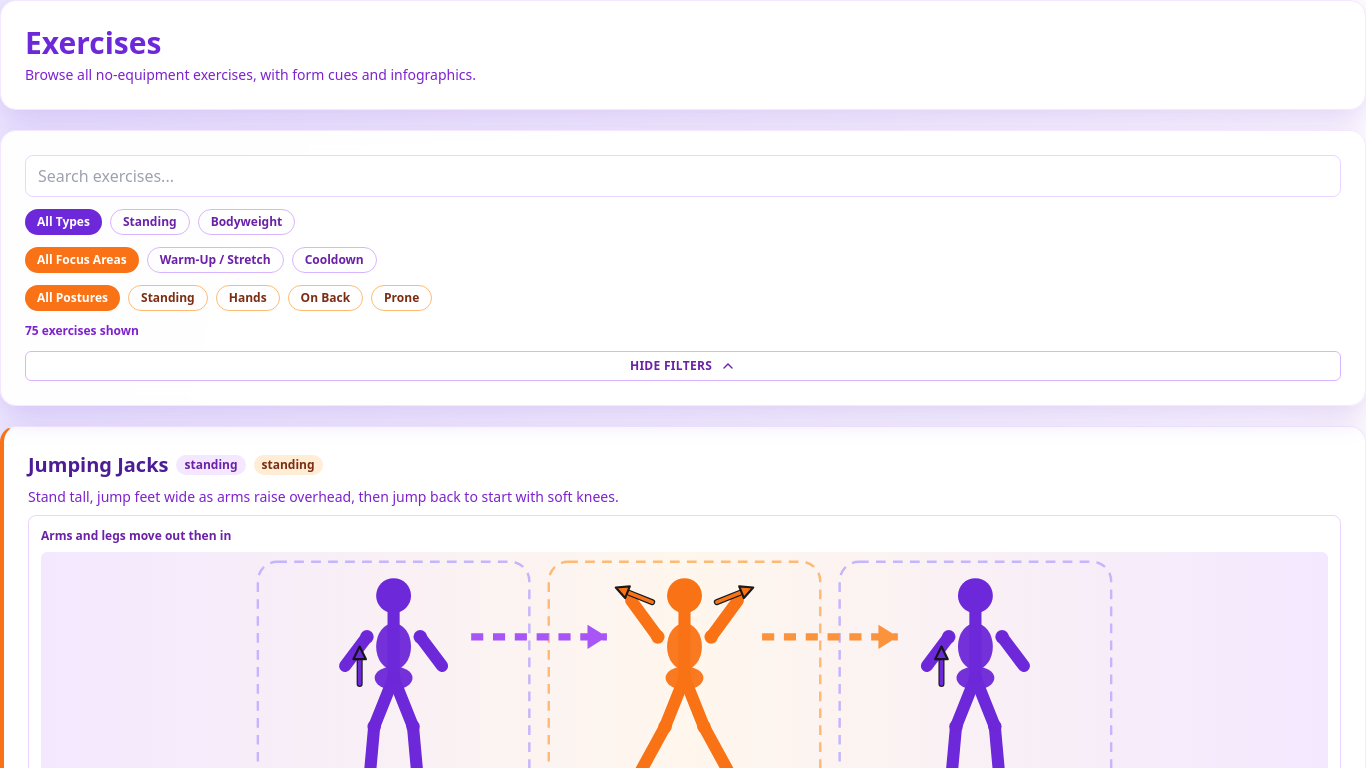
ExerciseList page › shows cooldown exercises when cooldown filter is selected
This screenshot has width=1366, height=768.
Click the button "Cooldown" at (334,260), box left=292, top=247, right=377, bottom=273
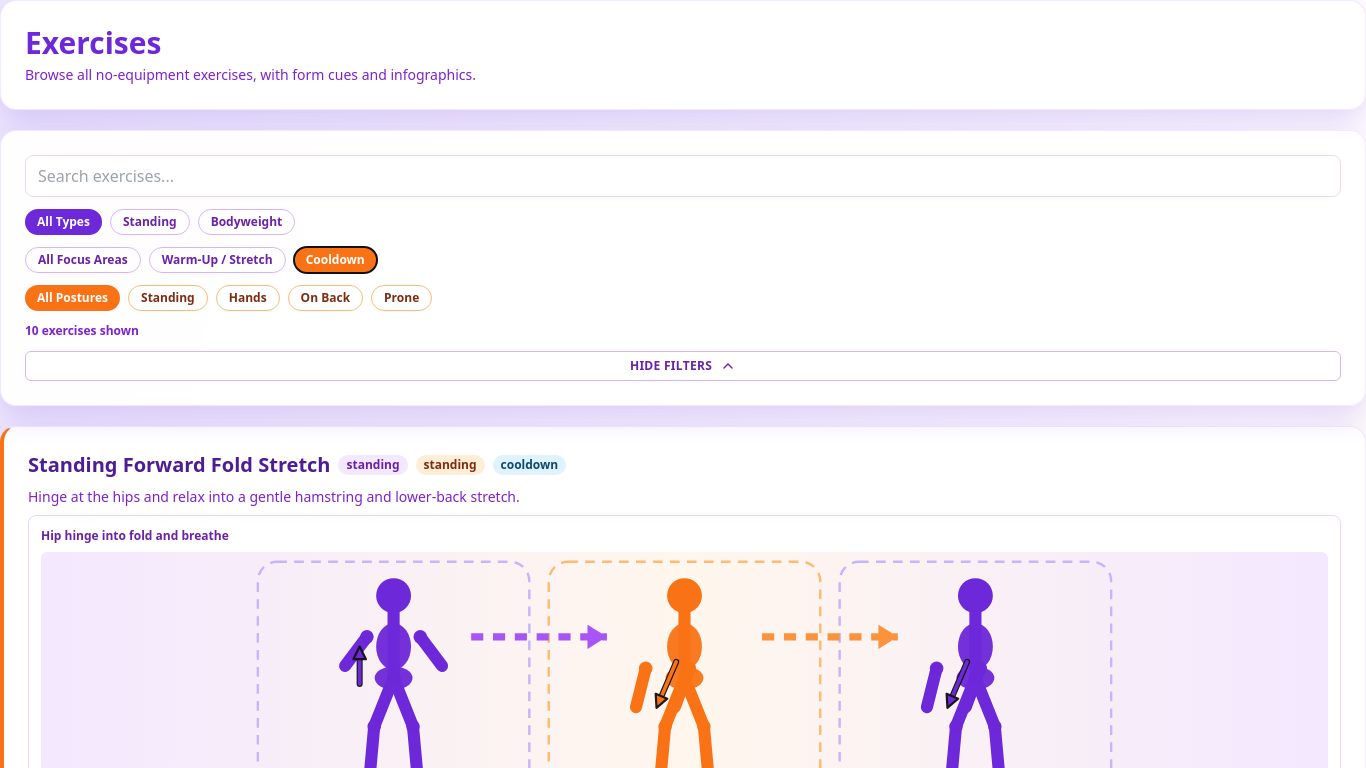
Expected: the heading "Standing Forward Fold Stretch" is shown, left=28, top=451, right=330, bottom=479
